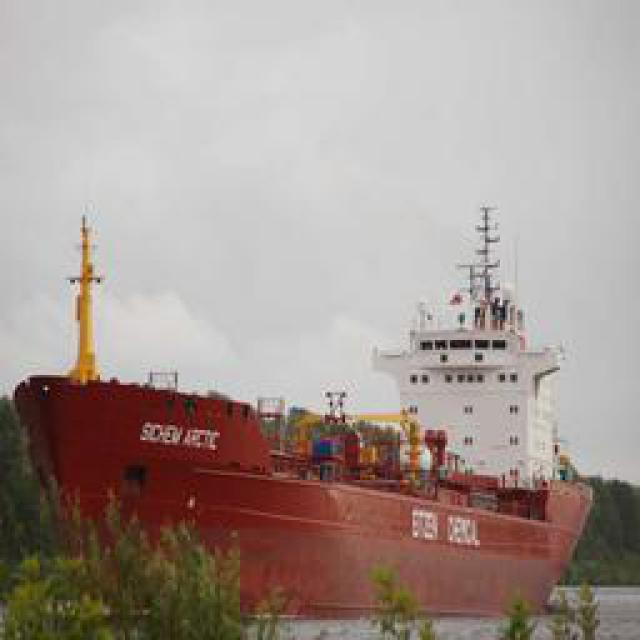Ship: (102, 198, 590, 626)
